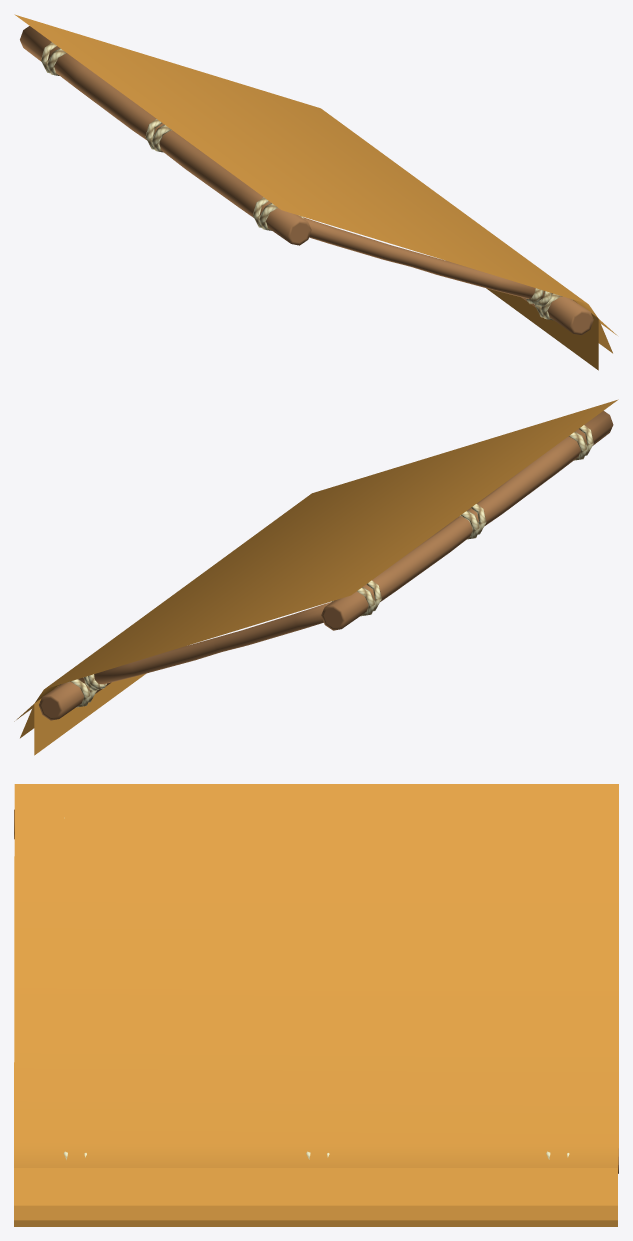
Rendered from H_Roof_01.fbx.
3 renders of one model, top to bottom at view 1: azimuth 30°, elevation 25°; view 2: azimuth 150°, elevation 25°; view 3: azimuth 270°, elevation 25°, orthographic. The views are drawn at different scales.
Parts seen in each view (by area): view 1: H_Roof_01; view 2: H_Roof_01; view 3: H_Roof_01.
Boxes of the visible parts, x1=… form: H_Roof_01: x1=14, y1=14, x2=617, y2=370; H_Roof_01: x1=14, y1=399, x2=618, y2=755; H_Roof_01: x1=14, y1=784, x2=618, y2=1226.
Bounding box in the file's own units: 218 × 147 × 300.
